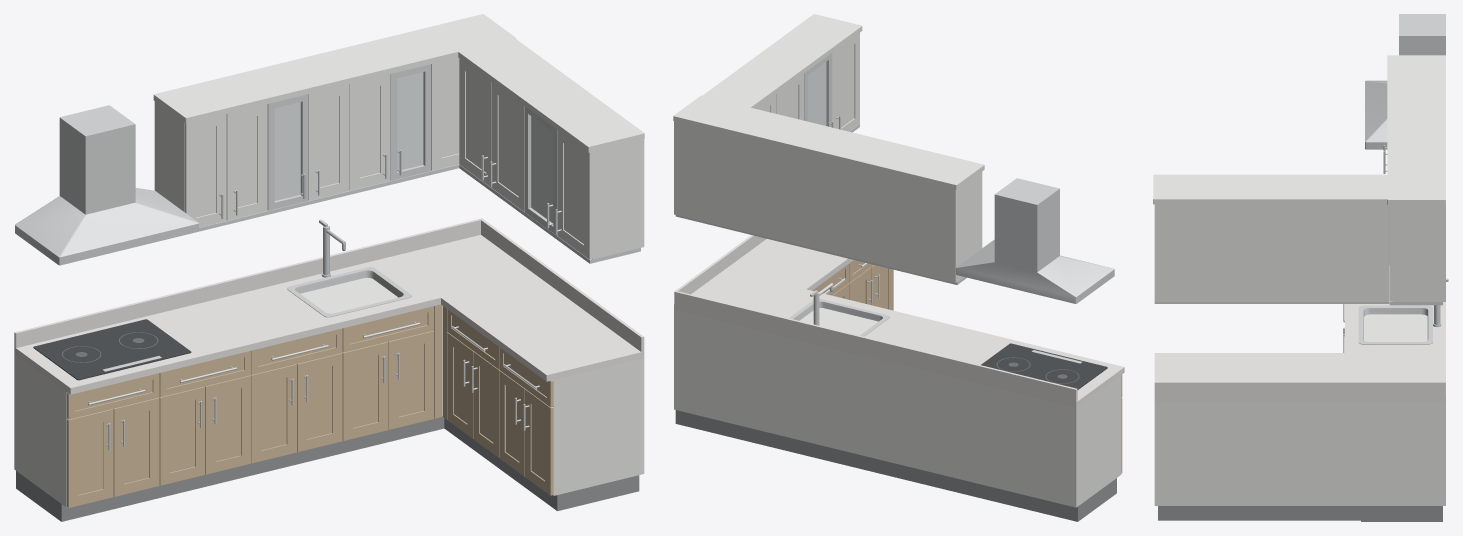
3 views of the same model, side by side, from view 1: azimuth 30°, elevation 25°; view 2: azimuth 150°, elevation 25°; view 3: azimuth 270°, elevation 25° (orthographic). The views are drawn at different scales.
Visible parts, largest first — view 1: Tủ bếp chữ L Dài cạnh chính=3000; Dài cạnh phụ=1800; Sâu tủ ; view 2: Tủ bếp chữ L Dài cạnh chính=3000; Dài cạnh phụ=1800; Sâu tủ ; view 3: Tủ bếp chữ L Dài cạnh chính=3000; Dài cạnh phụ=1800; Sâu tủ .
Boxes of the visible parts, x1=… form: Tủ bếp chữ L Dài cạnh chính=3000; Dài cạnh phụ=1800; Sâu tủ : x1=14, y1=14, x2=644, y2=521; Tủ bếp chữ L Dài cạnh chính=3000; Dài cạnh phụ=1800; Sâu tủ : x1=673, y1=14, x2=1124, y2=521; Tủ bếp chữ L Dài cạnh chính=3000; Dài cạnh phụ=1800; Sâu tủ : x1=1153, y1=14, x2=1448, y2=521.
Bounding box in the file's own units: 3.01 × 2.2 × 1.82.
